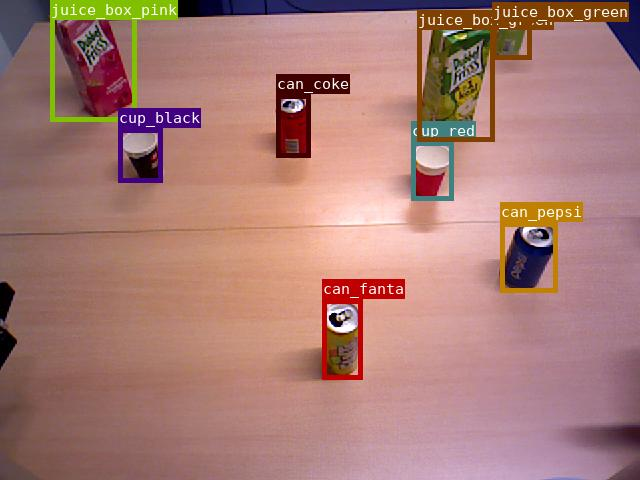can_coke: (276, 94, 310, 157)
can_fanta: (322, 299, 362, 379)
can_pepsi: (500, 222, 557, 292)
cup_black: (118, 128, 162, 182)
cup_red: (411, 141, 453, 200)
juice_box_green: (417, 10, 494, 141), (492, 2, 531, 59)
juice_box_pink: (50, 0, 136, 121)
